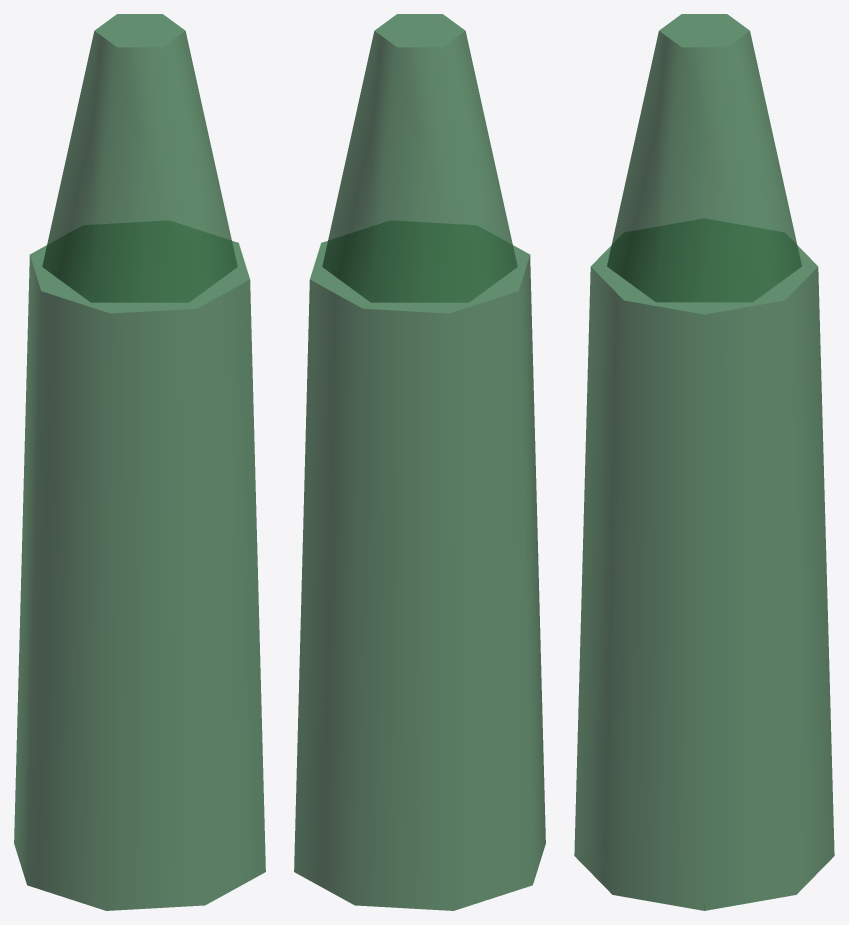
Rendered from find-bottle.glb.
3 views of the same model, side by side, from view 1: azimuth 30°, elevation 25°; view 2: azimuth 150°, elevation 25°; view 3: azimuth 270°, elevation 25° (orthographic).
Parts seen in each view (by area): view 1: 00_#3a7a4a_r110; view 2: 00_#3a7a4a_r110; view 3: 00_#3a7a4a_r110.
Boxes of the visible parts, box(x1,y1,x2,y2) form: 00_#3a7a4a_r110: box(14, 14, 265, 910); 00_#3a7a4a_r110: box(294, 14, 545, 910); 00_#3a7a4a_r110: box(574, 14, 834, 910).
Bounding box in the file's own units: 0.08 × 0.28 × 0.08.
